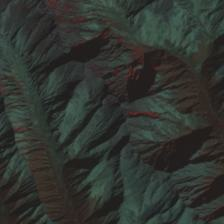landslides: (148, 97, 195, 132), (138, 99, 154, 114), (193, 108, 210, 116), (93, 8, 114, 14), (216, 103, 224, 117)
